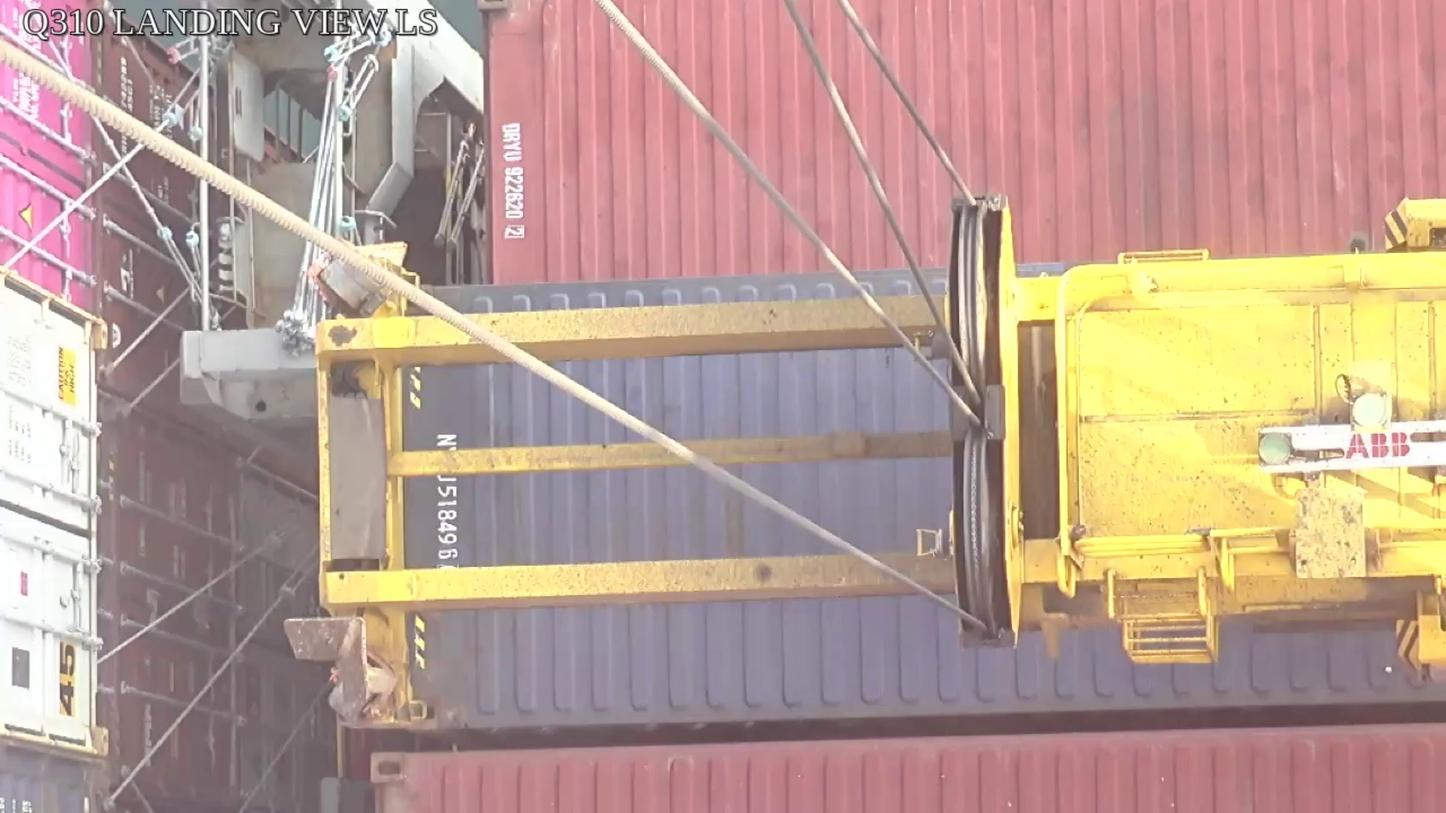aa: (947, 197, 1027, 648)
